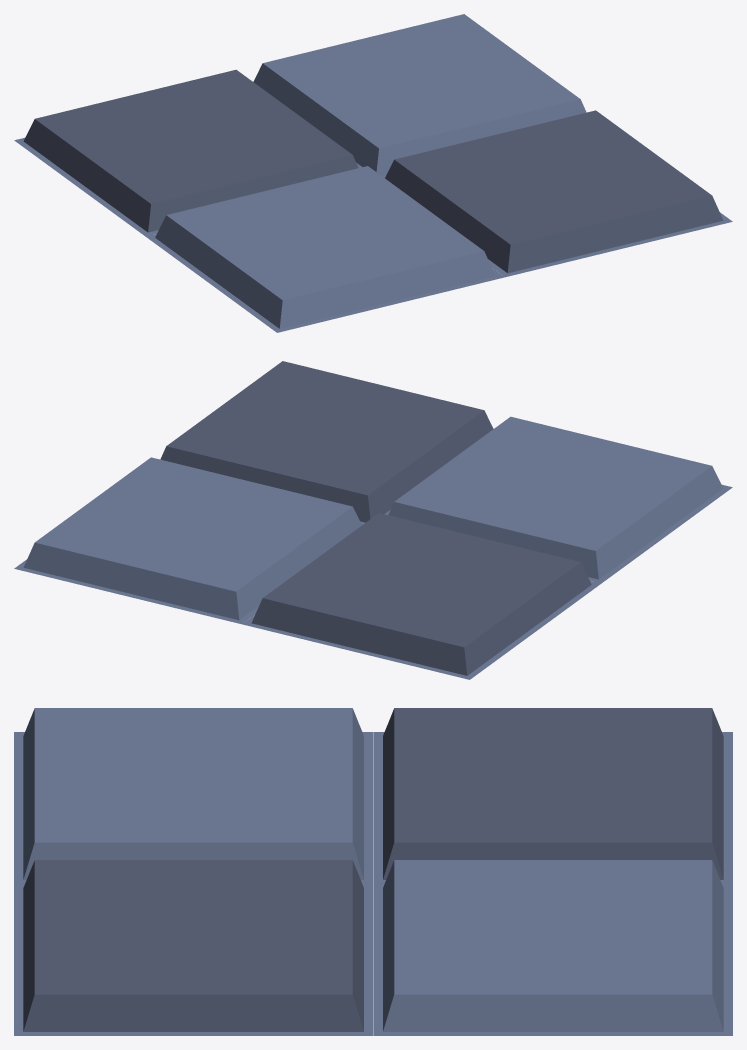
File: floor.fbx
3 views of the same model, one above another, from view 1: azimuth 30°, elevation 25°; view 2: azimuth 150°, elevation 25°; view 3: azimuth 270°, elevation 25° (orthographic). The views are drawn at different scales.
Visible parts, largest first — view 1: floor.001; view 2: floor.001; view 3: floor.001.
Part boxes in pixels (<box>): floor.001: <box>14,14,732,332</box>; floor.001: <box>14,361,732,679</box>; floor.001: <box>14,708,732,1035</box>.
Size of the model in its own units: 100 by 100 by 5.
